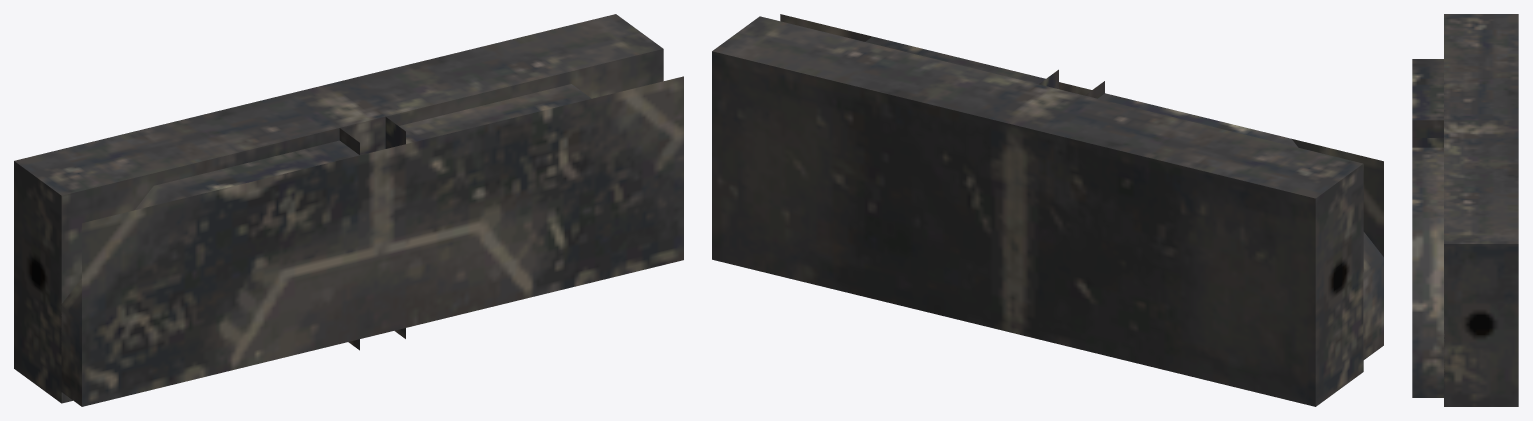
The model's file is segment_01_pair_1.glb.
3 renders of one model, left to right at view 1: azimuth 30°, elevation 25°; view 2: azimuth 150°, elevation 25°; view 3: azimuth 270°, elevation 25°, orthographic. The views are drawn at different scales.
Visible parts, largest first — view 1: set_0_group_0; view 2: set_0_group_0; view 3: set_0_group_0.
Boxes of the visible parts, x1,y1,x2,y2 form: set_0_group_0: [14, 14, 683, 406]; set_0_group_0: [712, 14, 1383, 406]; set_0_group_0: [1412, 14, 1518, 406].
Size of the model in its own units: 0.523 by 0.1726 by 0.1023.
Materials: 1 (1 with a texture image).
